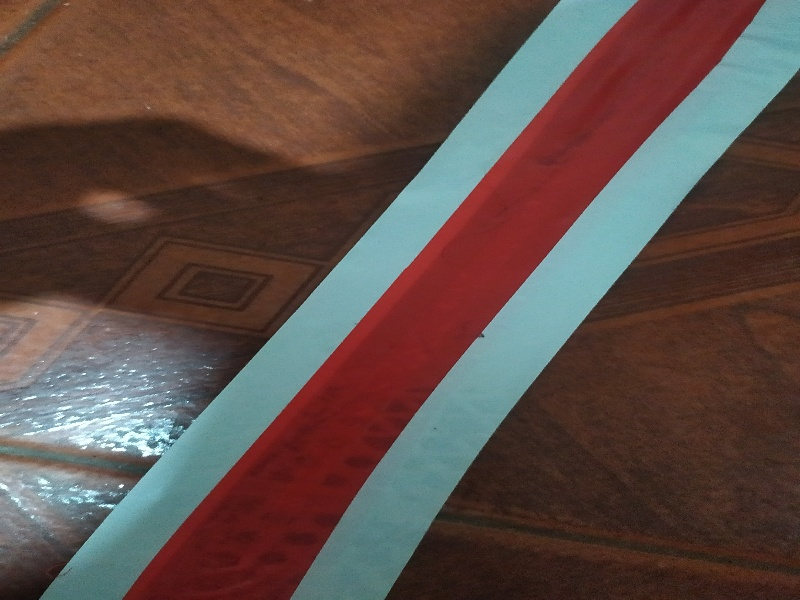saindoEsquerda: (10, 7, 800, 595)
